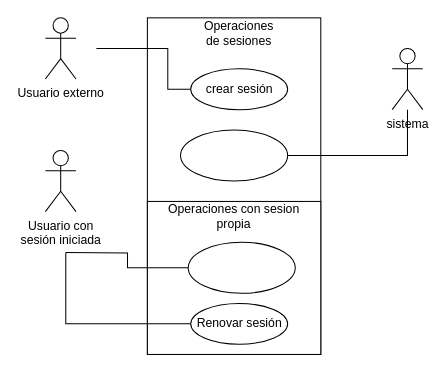
This 446x372 diagram has some shape labels left out. The shapes that lost their labels are listed below. From the top down, each one's box as (x1, y1, x2, y2) in pixels, then its label:
(180, 129, 288, 181): verificar sesiones
(187, 241, 295, 293): Borrar propia sesion
